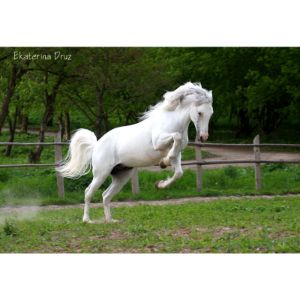horse: (96, 73, 215, 192)
